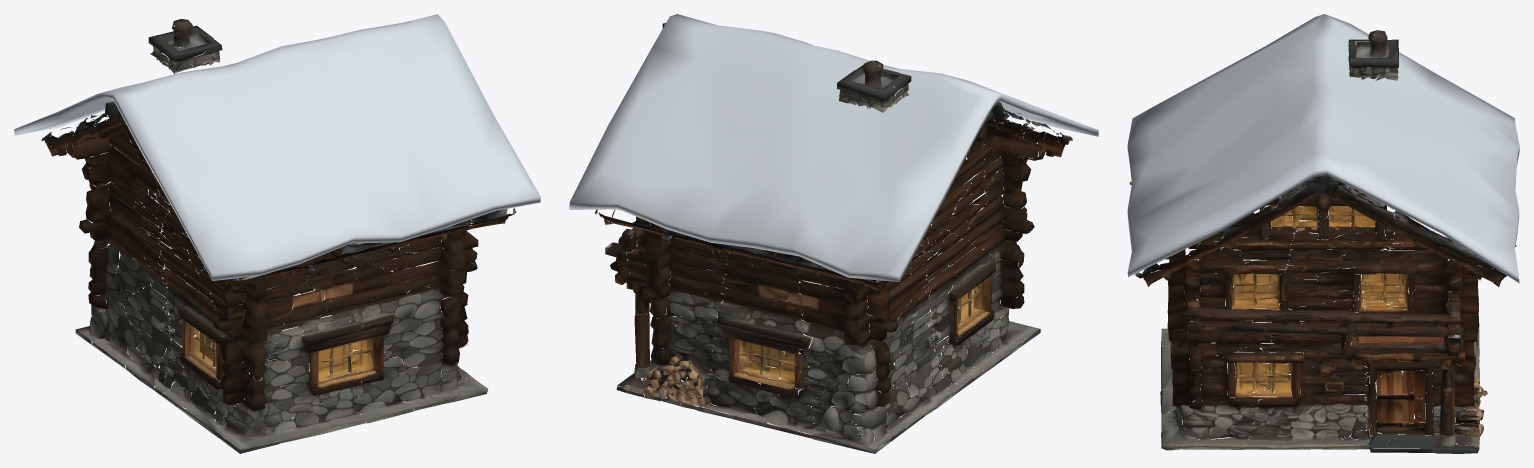
The model's file is alpine_ranger_lodge.glb.
3 views of the same model, side by side, from view 1: azimuth 30°, elevation 25°; view 2: azimuth 150°, elevation 25°; view 3: azimuth 270°, elevation 25° (orthographic). The views are drawn at different scales.
Parts seen in each view (by area): view 1: tripo_node_af7907f3-8df6-4adc-a1fd-c34e41a5aeef; view 2: tripo_node_af7907f3-8df6-4adc-a1fd-c34e41a5aeef; view 3: tripo_node_af7907f3-8df6-4adc-a1fd-c34e41a5aeef.
Part boxes in pixels (x1,y1,x2,y2): tripo_node_af7907f3-8df6-4adc-a1fd-c34e41a5aeef: [14, 14, 540, 453]; tripo_node_af7907f3-8df6-4adc-a1fd-c34e41a5aeef: [569, 14, 1098, 453]; tripo_node_af7907f3-8df6-4adc-a1fd-c34e41a5aeef: [1127, 14, 1519, 453].
Size of the model in its own units: 9.48 by 9.02 by 9.82.
Materials: 2 (1 with a texture image).
